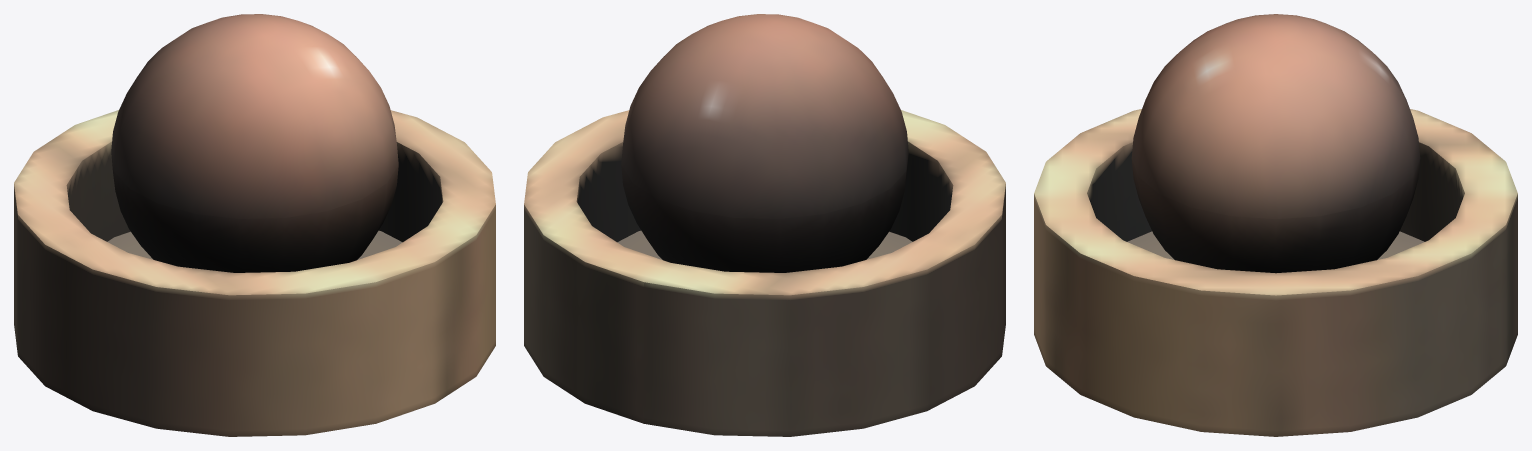
The model's file is Flotsam_Cannon.fbx.
The picture shows the model from 3 angles, left to right: view 1: azimuth 30°, elevation 25°; view 2: azimuth 150°, elevation 25°; view 3: azimuth 270°, elevation 25°; orthographic projection.
Parts seen in each view (by area): view 1: houdan_utsuwa; view 2: houdan_utsuwa; view 3: houdan_utsuwa.
Boxes of the visible parts, x1,y1,x2,y2 form: houdan_utsuwa: (14,14,495,436); houdan_utsuwa: (524,14,1005,436); houdan_utsuwa: (1034,14,1517,436).
Size of the model in its own units: 1.24 by 0.8687 by 1.24.
Materials: 1 (1 with a texture image).
